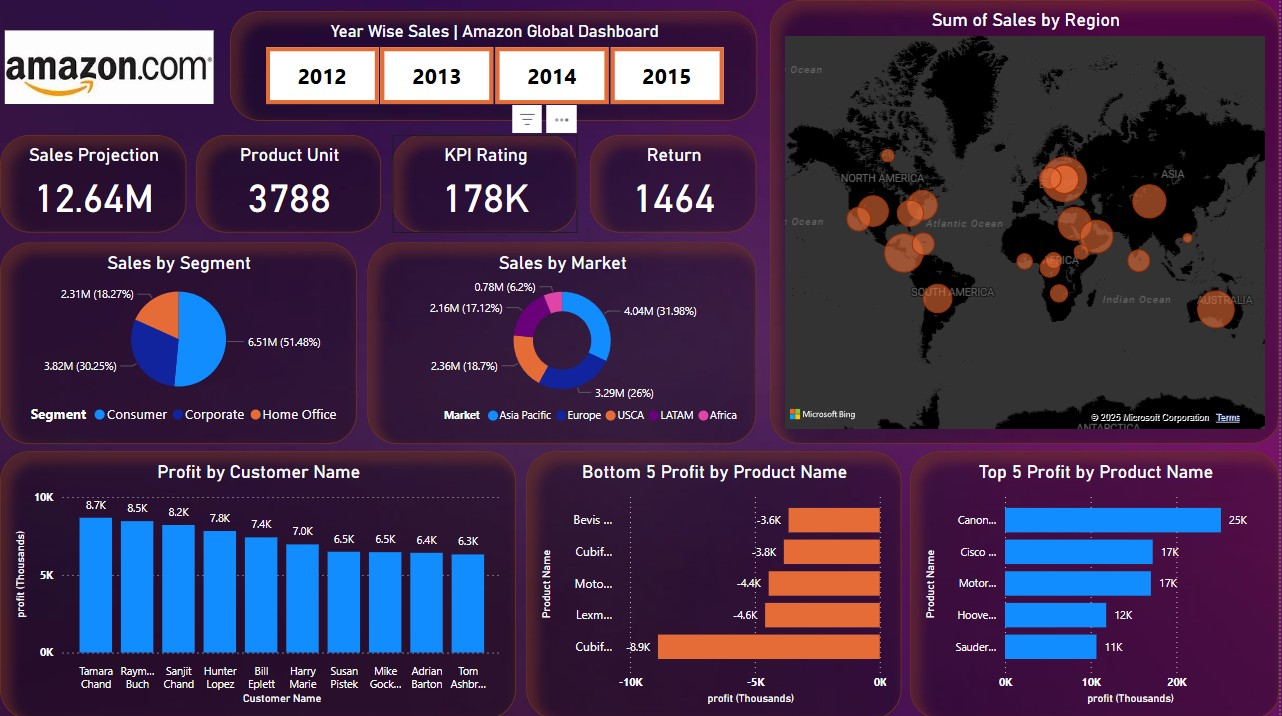

This screenshot's page, from the dashboard's own definition file:
{"tool":"powerbi","page":{"name":"Dashboard 1","canvas":[1280,720],"ordinal":0},"visuals":[{"type":"slicer","title":"Year Wise Sales | Amazon Global Dashboard","fields":{"Values":["Orders.Year"]},"box":[229.6,11.1,527.2,109.9],"z":0},{"type":"card","title":"Sales Projection","fields":{"Values":["Orders.Sales"]},"box":[0,134.6,186.4,97.5],"z":1},{"type":"image","box":[0,0,218.9,134.3],"z":2},{"type":"card","title":"Product Unit","fields":{"Values":["Orders.Product Name"]},"box":[196.3,134.6,185.2,97.5],"z":3},{"type":"card","title":"KPI Rating","fields":{"Values":["Orders.Quantity"]},"box":[392.6,134.6,185.2,97.5],"z":4},{"type":"card","title":"Return","fields":{"Values":["Orders.Ship Date"]},"box":[590.1,134.6,166.7,97.5],"z":5},{"type":"pieChart","title":"Sales by Segment","fields":{"Y":["Orders.Sales"],"Category":["Orders.Segment"]},"box":[0,242,356.8,201.2],"z":6},{"type":"donutChart","title":"Sales by Market","fields":{"Y":["Orders.Sales"],"Category":["Orders.Market"]},"box":[367.9,242,388.9,201.2],"z":7},{"type":"clusteredColumnChart","title":"Profit by Customer Name","fields":{"Category":["Orders.Customer Name"],"Y":["Orders.Profit"]},"box":[0,451.9,516,267.9],"z":8},{"type":"clusteredBarChart","title":"Bottom 5 Profit by Product Name","fields":{"Y":["Orders.Profit"],"Category":["Orders.Product Name"]},"box":[525.9,451.9,375.3,267.9],"z":9},{"type":"clusteredBarChart","title":"Top 5 Profit by Product Name","fields":{"Y":["Orders.Profit"],"Category":["Orders.Product Name"]},"box":[909.9,451.9,370.4,267.9],"z":10},{"type":"map","fields":{"Size":["Orders.Sales"],"Category":["Orders.Region"]},"box":[770,0,510,443.8],"z":11}]}

Visuals, with their boxes in screenshot pixels (x1, y1, x2, y2), scaled from the page's 1280x720 canvas onto the 1282x716 screenshot:
"Year Wise Sales | Amazon Global Dashboard" slicer: bbox(230, 11, 758, 120)
"Sales Projection" card: bbox(0, 134, 187, 231)
image: bbox(0, 0, 219, 134)
"Product Unit" card: bbox(197, 134, 382, 231)
"KPI Rating" card: bbox(393, 134, 579, 231)
"Return" card: bbox(591, 134, 758, 231)
"Sales by Segment" pieChart: bbox(0, 241, 357, 441)
"Sales by Market" donutChart: bbox(368, 241, 758, 441)
"Profit by Customer Name" clusteredColumnChart: bbox(0, 449, 517, 715)
"Bottom 5 Profit by Product Name" clusteredBarChart: bbox(527, 449, 903, 715)
"Top 5 Profit by Product Name" clusteredBarChart: bbox(911, 449, 1281, 715)
map - Orders.Sales x Orders.Region: bbox(771, 0, 1281, 441)
